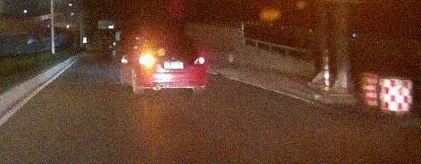L_light: (138, 57, 156, 64)
R_light: (187, 57, 205, 66)
T_light: (164, 32, 176, 35)
night-left: (135, 31, 207, 95)
